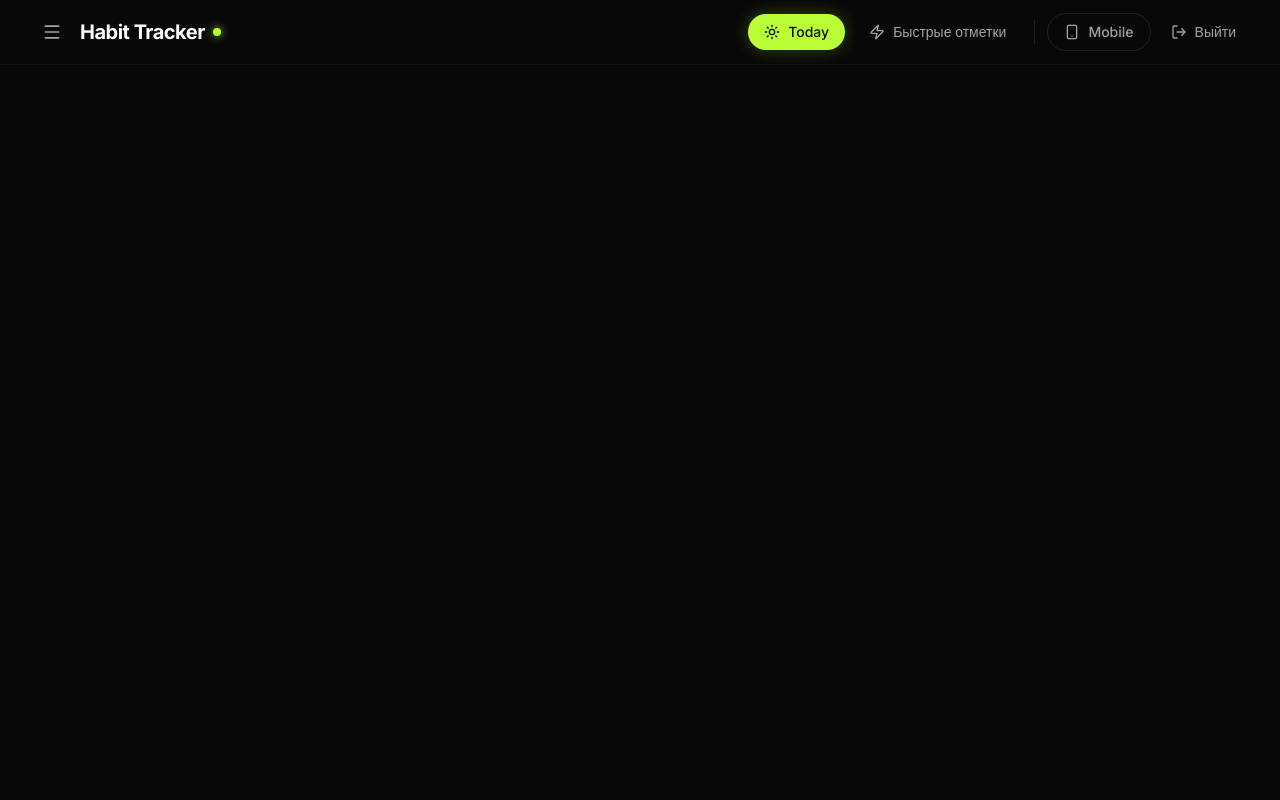
Scenario: the navigation drawer › opens from the button, as a modal dialog
Click the button named "Меню" at (52, 32), box [32,12,72,52]
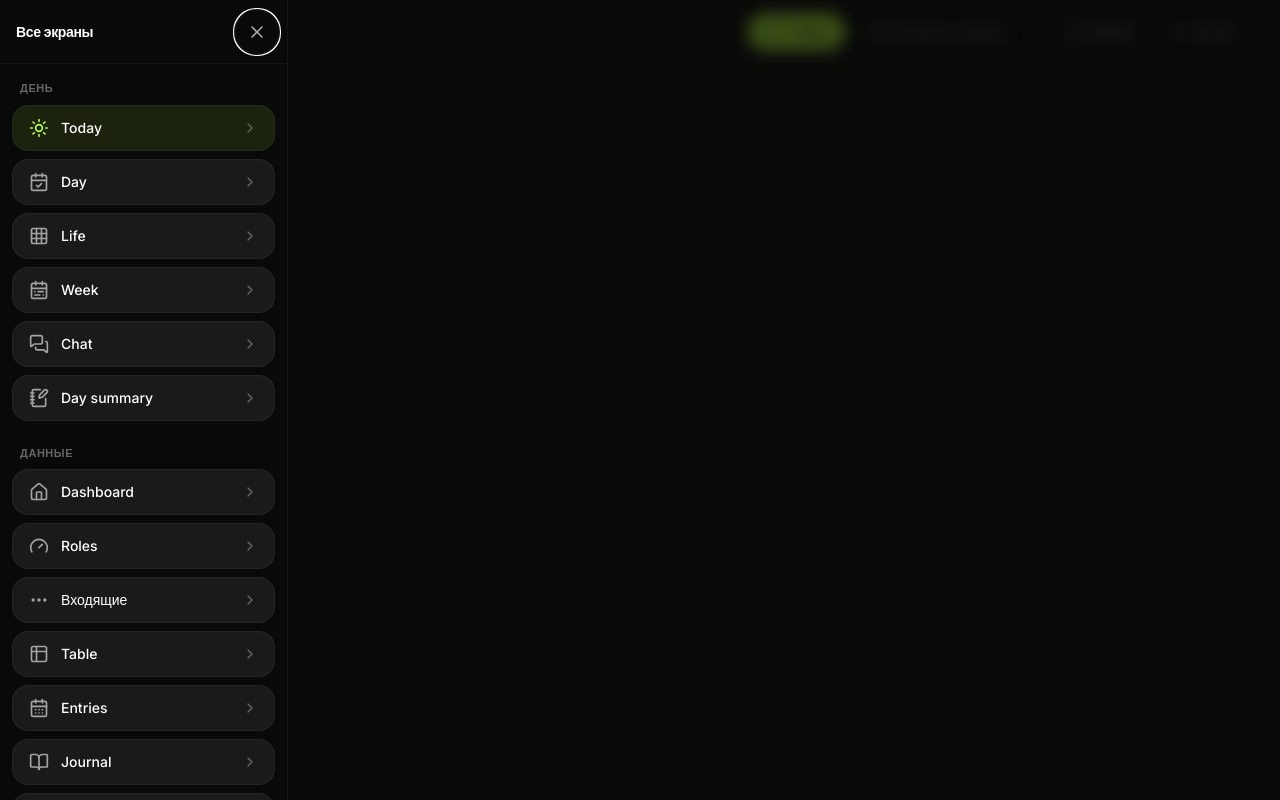
Expected: the button named "Меню" is expanded, [32,12,72,52]
